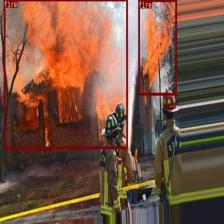fire: (3, 0, 127, 148), (138, 0, 176, 95)
